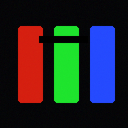3 line_h: (39, 36, 87, 42)
